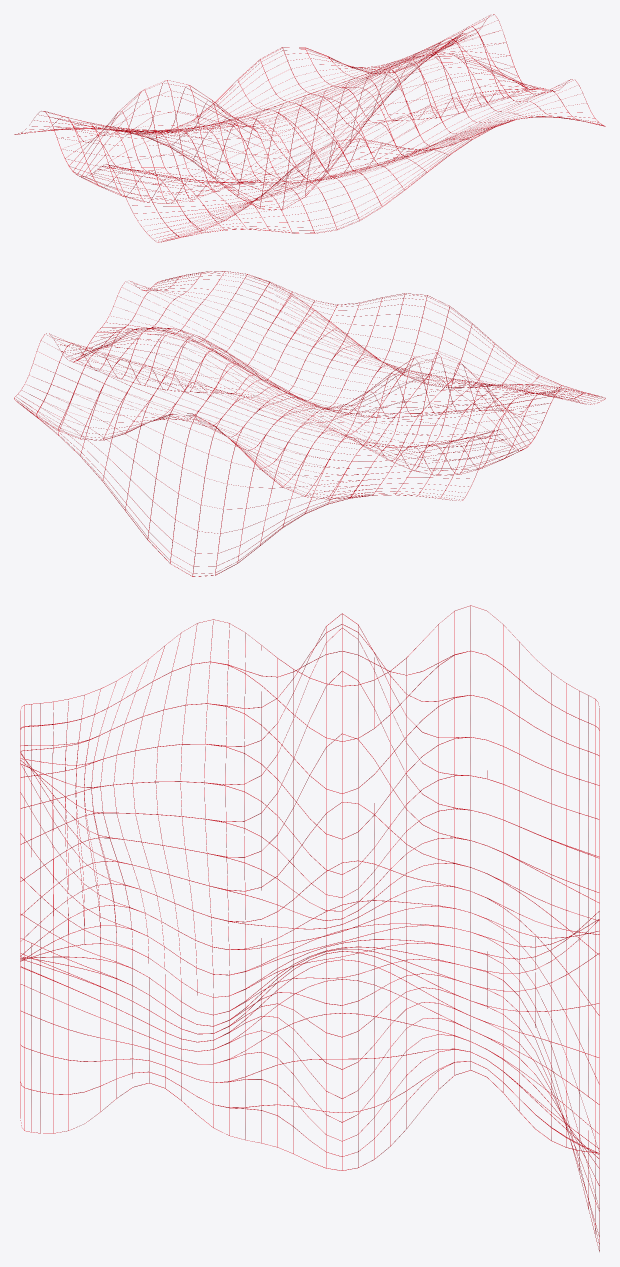
The model's file is deform_strips4anim.gltf.glb.
The picture shows the model from 3 angles, top to bottom: view 1: azimuth 30°, elevation 25°; view 2: azimuth 150°, elevation 25°; view 3: azimuth 270°, elevation 25°; orthographic projection. The views are drawn at different scales.
Parts seen in each view (by area): view 1: Plane.001, Plane; view 2: Plane.001, Plane; view 3: Plane.001, Plane.
Boxes of the visible parts, x1,y1,x2,y2 form: Plane.001: (14, 16, 605, 241); Plane: (43, 14, 556, 242); Plane.001: (14, 271, 605, 500); Plane: (14, 276, 604, 576); Plane.001: (20, 608, 599, 1170); Plane: (20, 605, 599, 1251).
Size of the model in its own units: 51.63 by 24.26 by 28.79.
